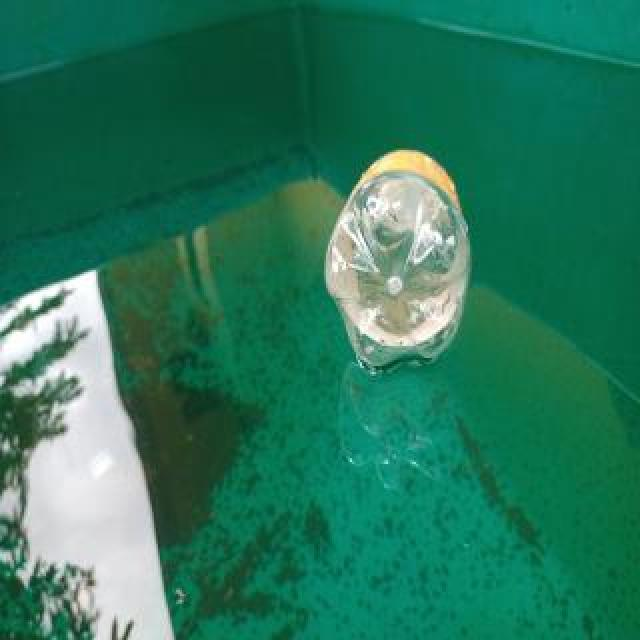bottle: (322, 142, 472, 380)
